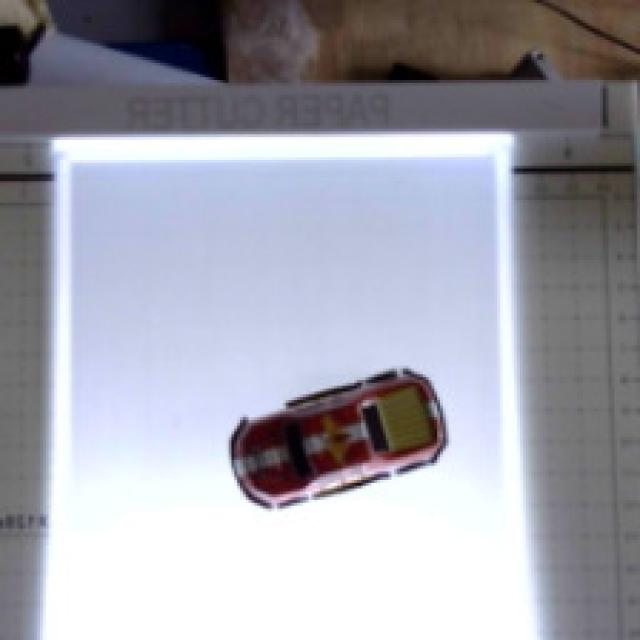Red Car: (214, 306, 469, 577)
